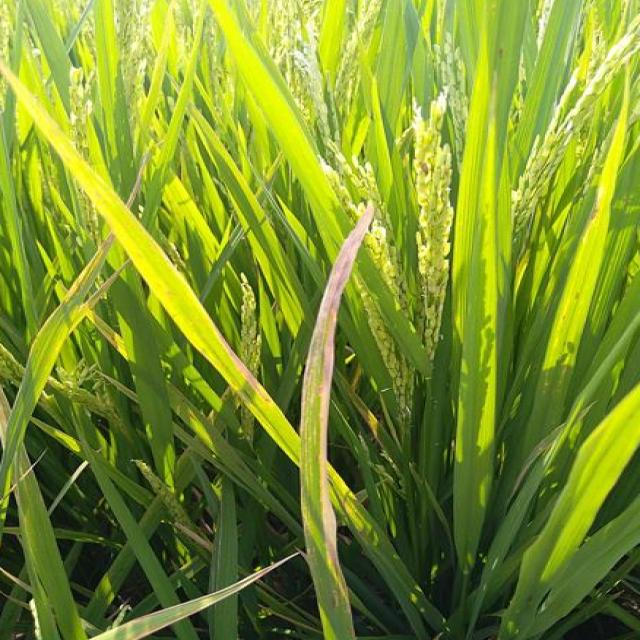Leaf Blight: (305, 205, 374, 640), (104, 567, 281, 640), (213, 328, 281, 413), (63, 235, 113, 312), (0, 384, 12, 450), (98, 271, 120, 296)
